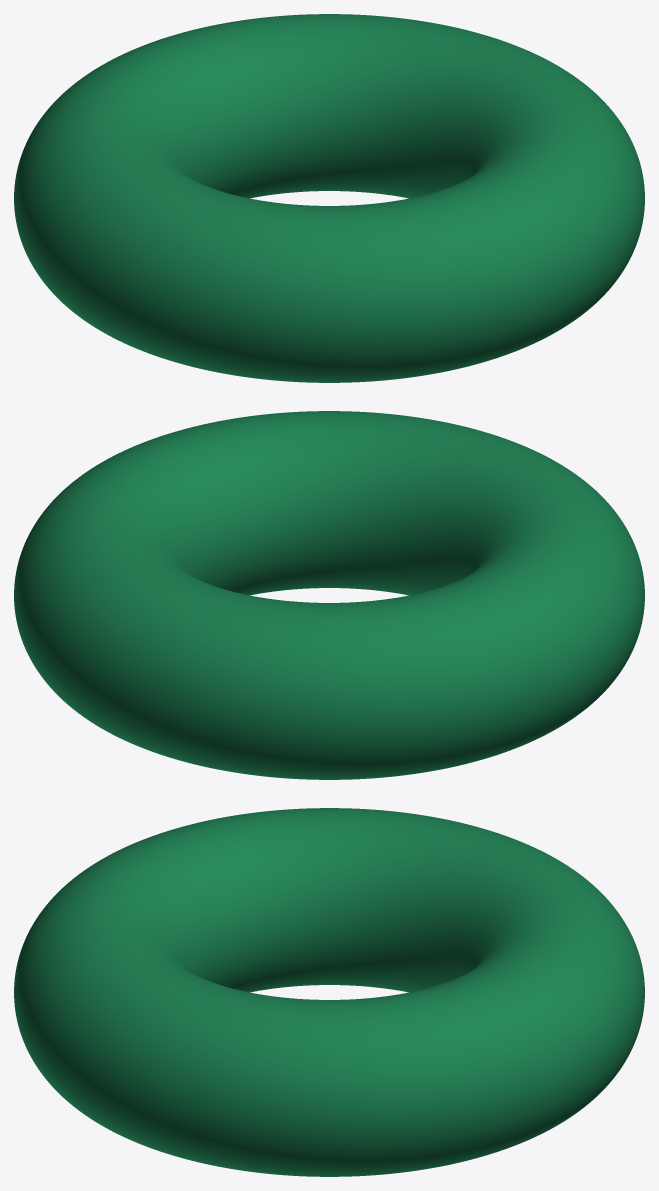
File: Planet5.fbx
The picture shows the model from 3 angles, top to bottom: view 1: azimuth 30°, elevation 25°; view 2: azimuth 150°, elevation 25°; view 3: azimuth 270°, elevation 25°; orthographic projection.
Visible parts, largest first — view 1: Planet5; view 2: Planet5; view 3: Planet5.
Part boxes in pixels (box(x1,y1,x2,y2)): Planet5: box(14, 14, 644, 382); Planet5: box(14, 411, 644, 779); Planet5: box(14, 808, 644, 1176).
Bounding box in the file's own units: 542 × 542 × 152.
